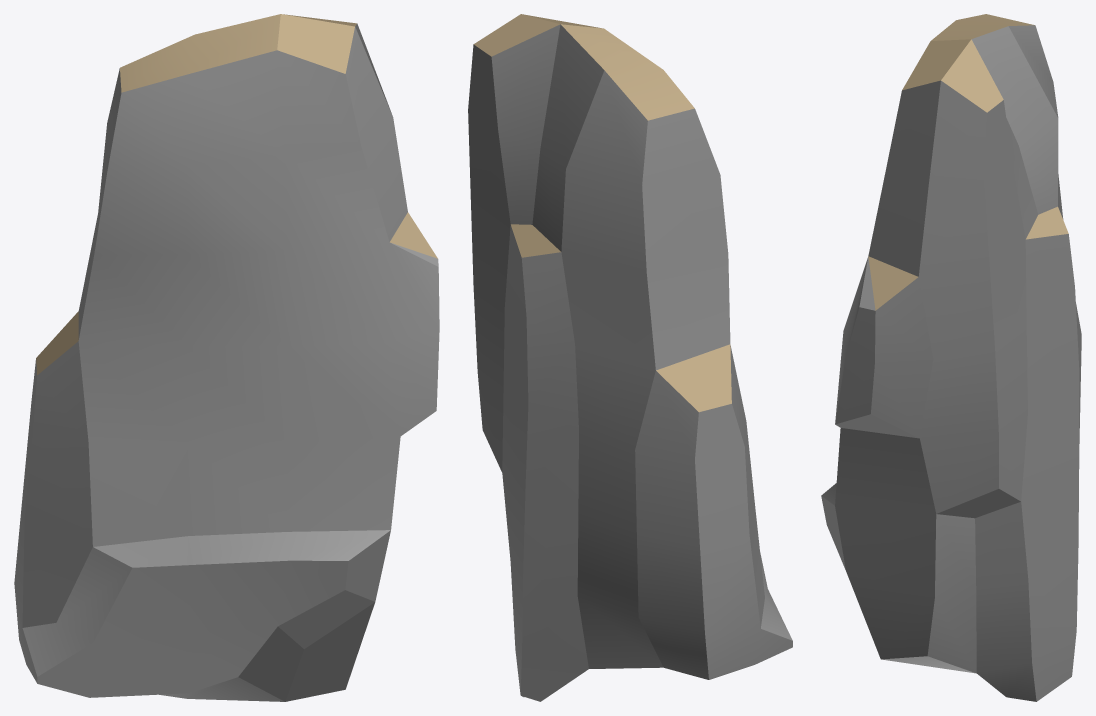
Rendered from rock16.glb.
3 renders of one model, left to right at view 1: azimuth 30°, elevation 25°; view 2: azimuth 150°, elevation 25°; view 3: azimuth 270°, elevation 25°, orthographic. The views are drawn at different scales.
Visible parts, largest first — view 1: rock.010_0; view 2: rock.010_0; view 3: rock.010_0.
Boxes of the visible parts, bbox=[...] form: rock.010_0: bbox=[14, 14, 439, 701]; rock.010_0: bbox=[468, 14, 792, 701]; rock.010_0: bbox=[821, 14, 1081, 701].
Size of the model in its own units: 6.35 by 11.97 by 4.28.
